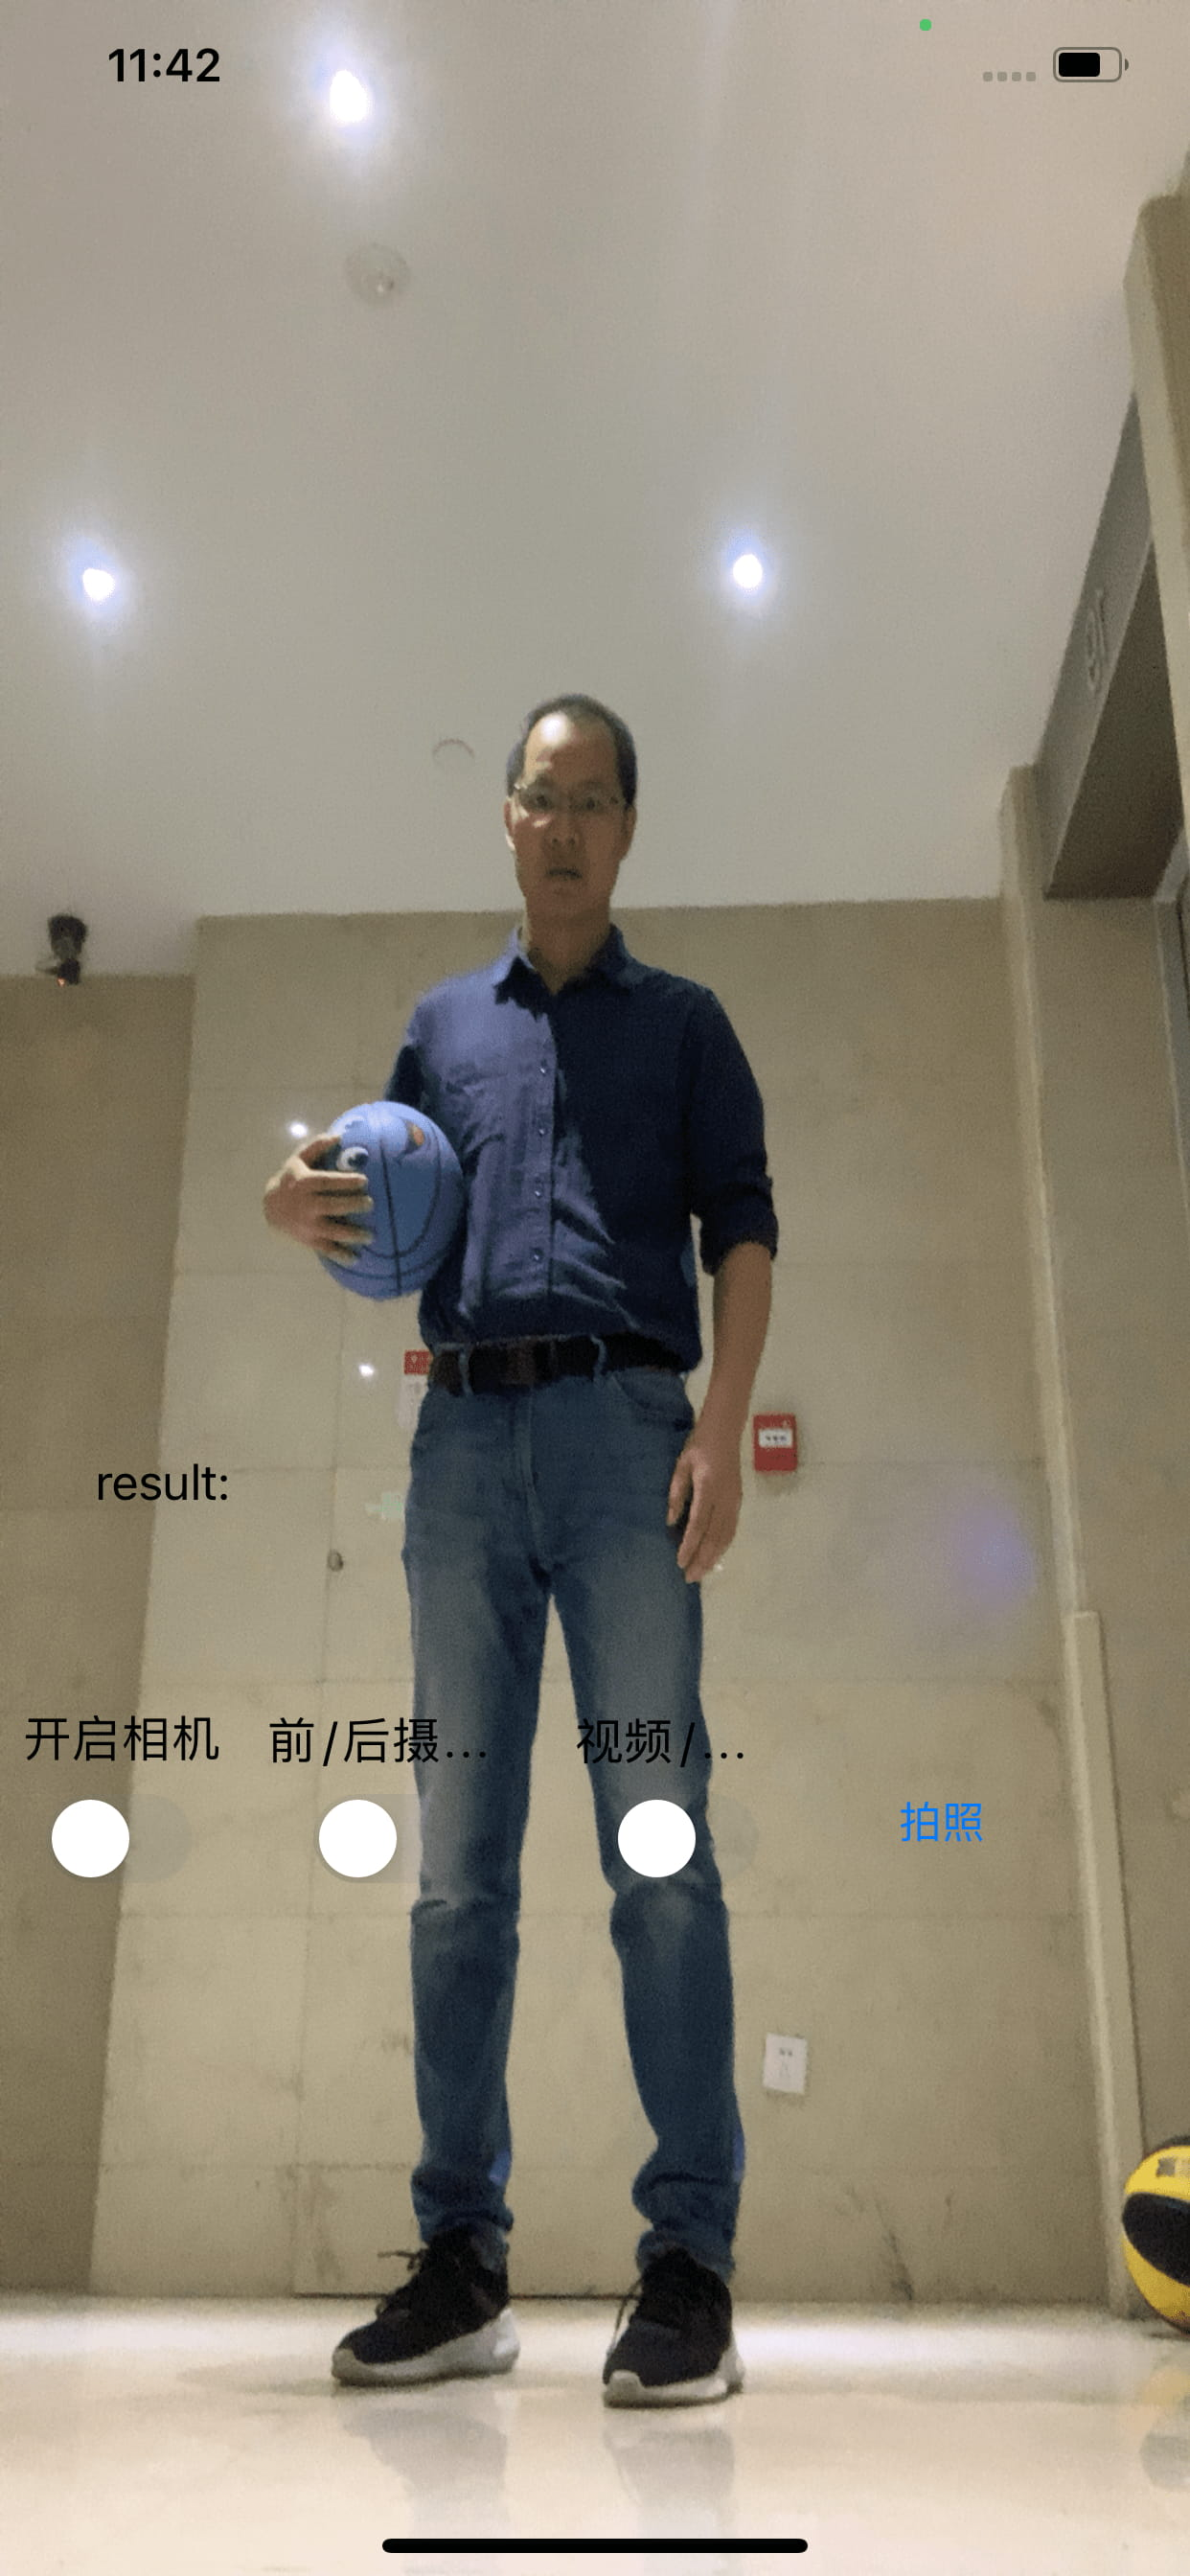ball: (304, 1096, 475, 1303)
